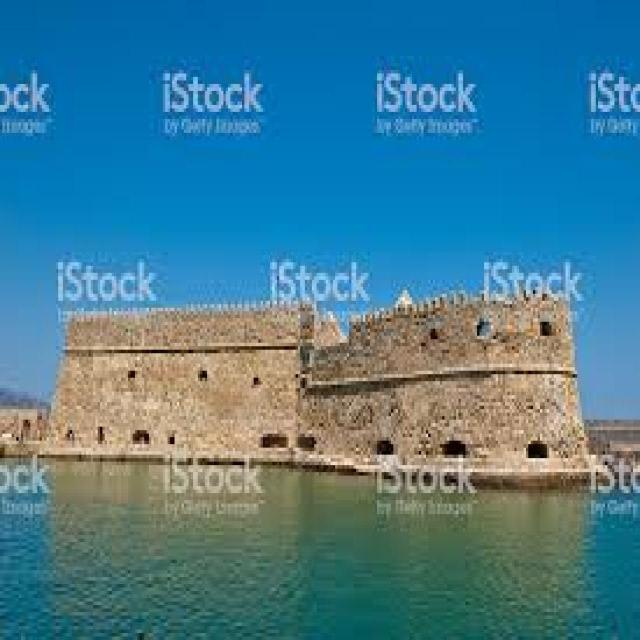Kules: (49, 289, 589, 477)
